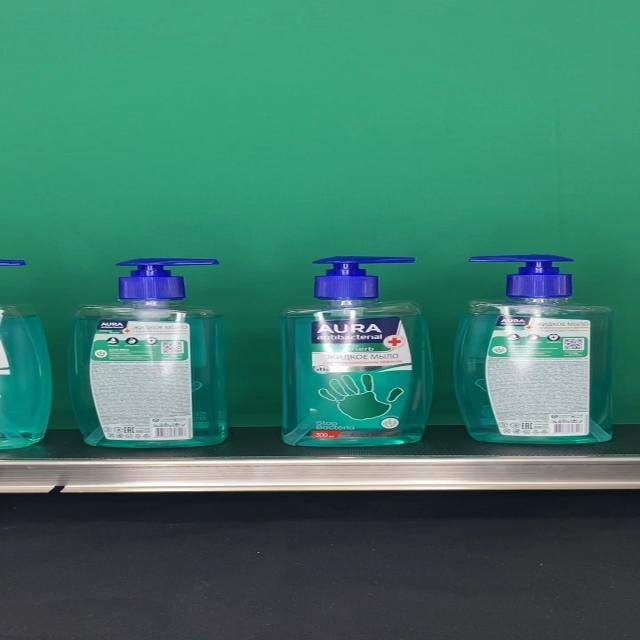Bottle: (452, 254, 614, 444), (72, 258, 228, 448), (279, 257, 433, 447)
Cap: (313, 257, 418, 300), (468, 255, 574, 297), (115, 258, 218, 300)
